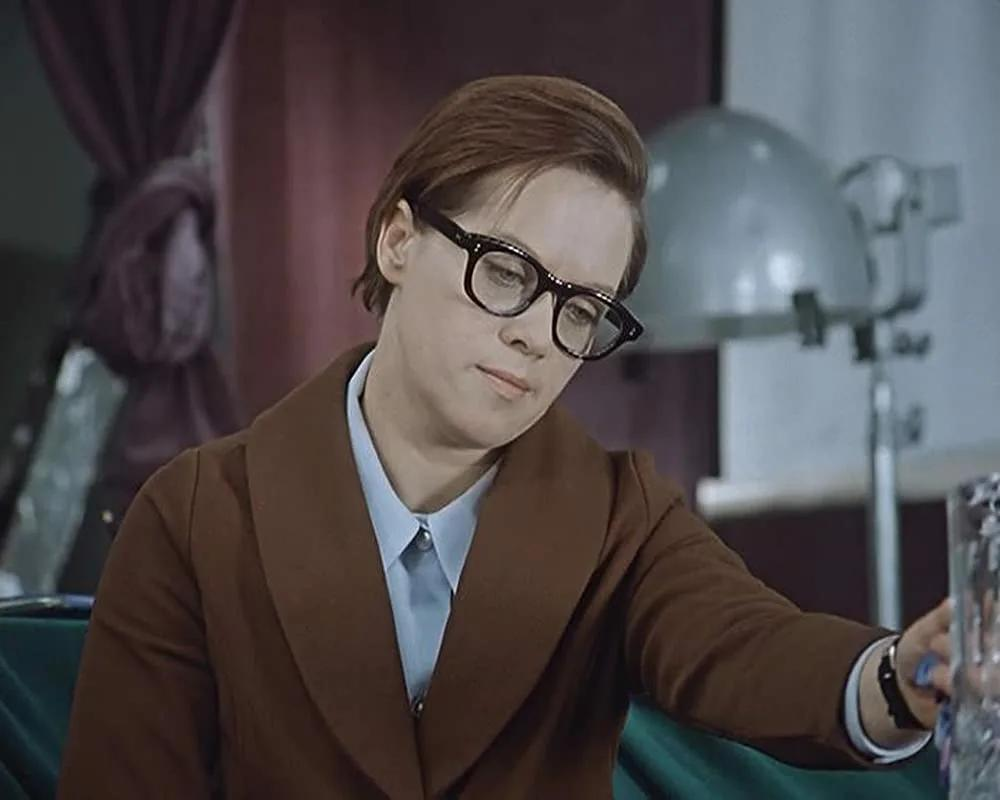Eye-glass: (392, 185, 653, 378)
